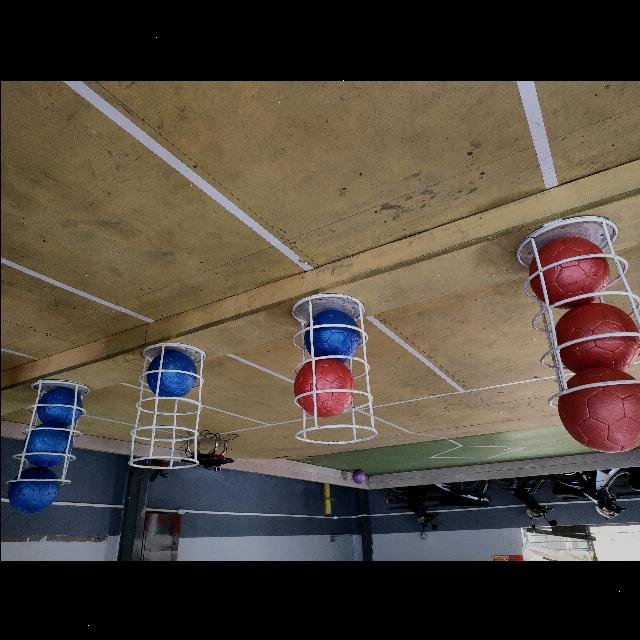B: (305, 308, 359, 362), (144, 349, 196, 399), (8, 466, 58, 514), (27, 423, 71, 467), (36, 387, 82, 427)
R: (552, 369, 640, 453), (552, 304, 640, 376), (528, 235, 606, 308), (302, 357, 352, 419)
